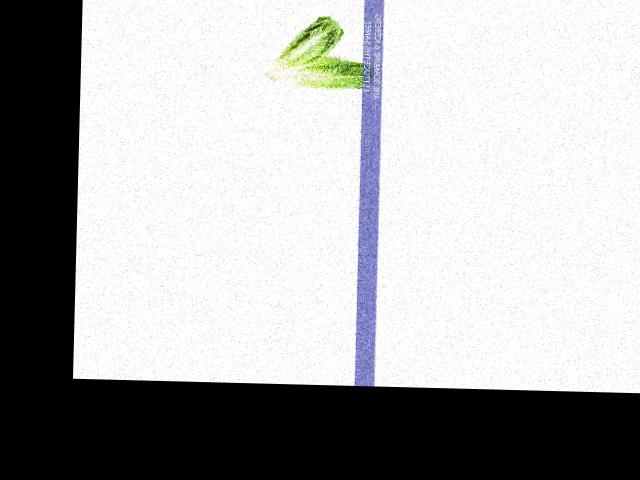lettuce: (254, 17, 348, 82)
